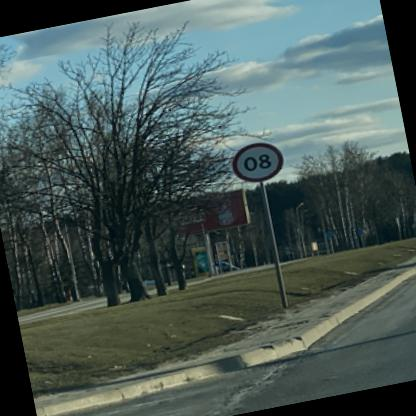speedlimit: (230, 136, 288, 186)
